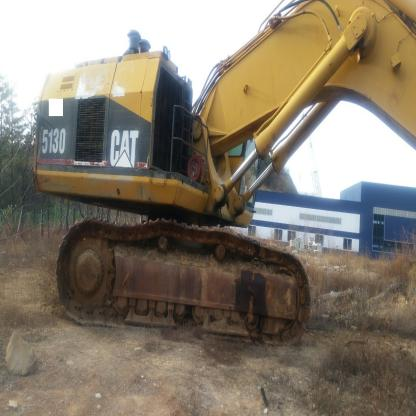excavator: (38, 5, 416, 414)
